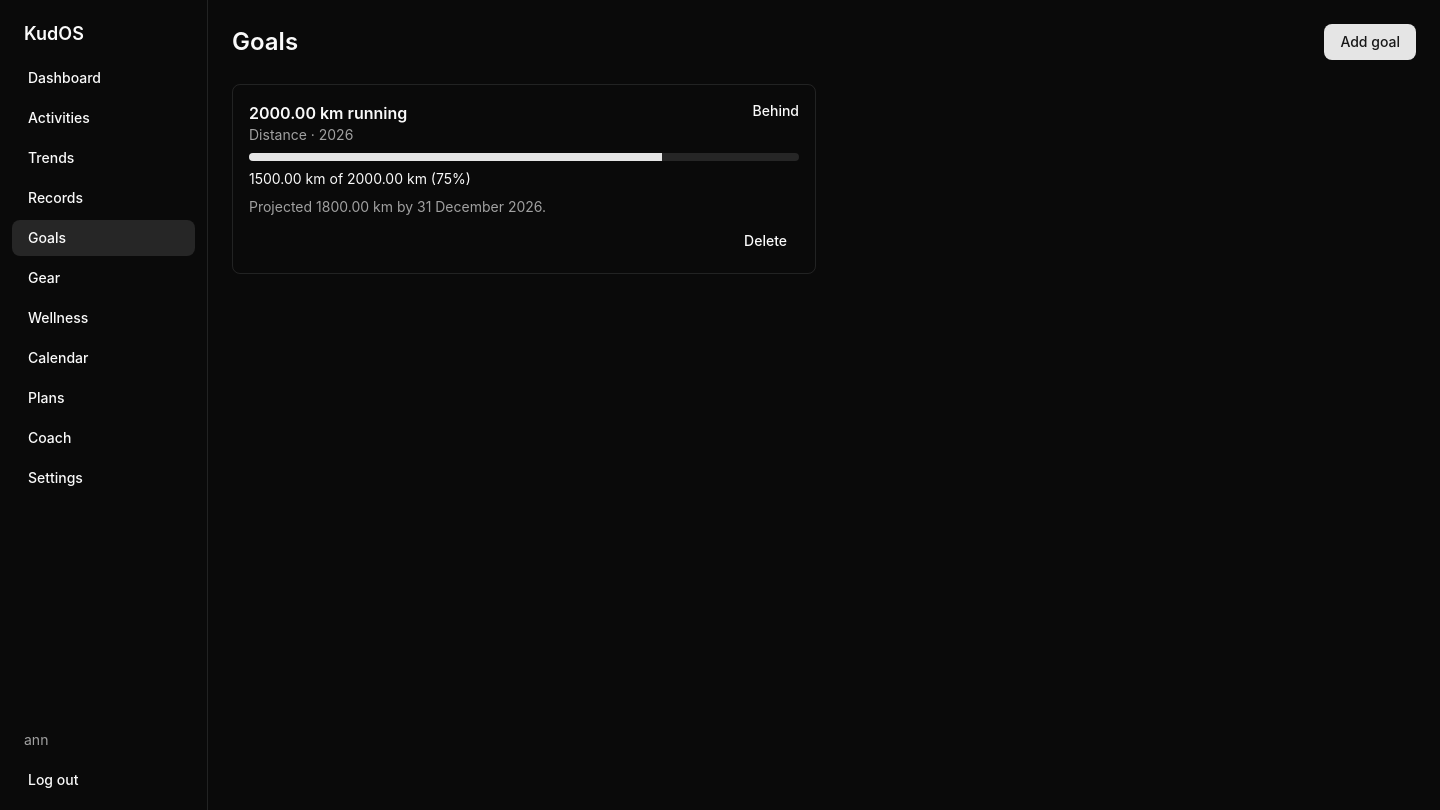
Scenario: GoalsPage › deletes a goal
Click the button with aria-label "Delete 2000.00 km running, 2026": (766, 241) [732, 225, 799, 257]
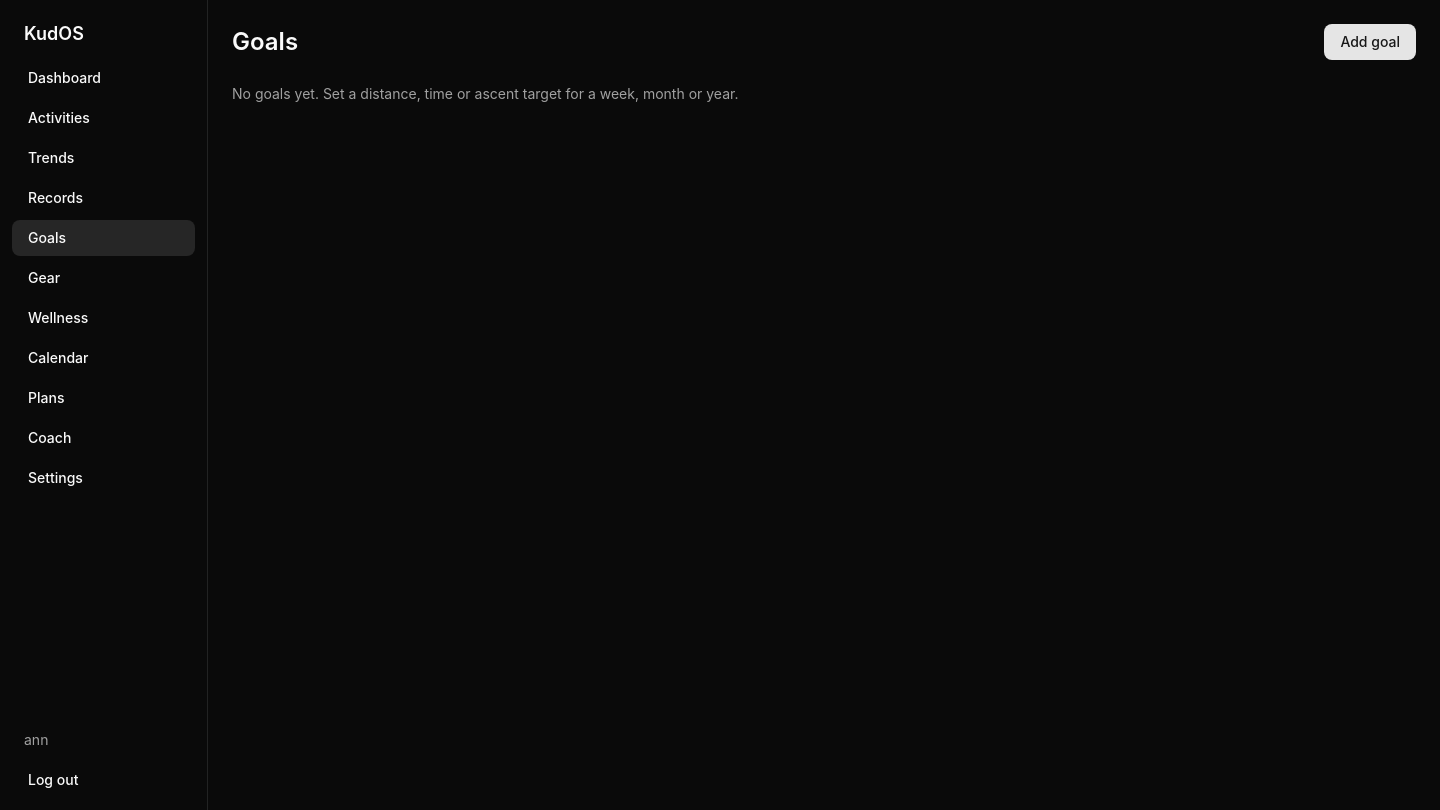
Now the text "No goals yet" is shown, box [232, 85, 738, 102]
